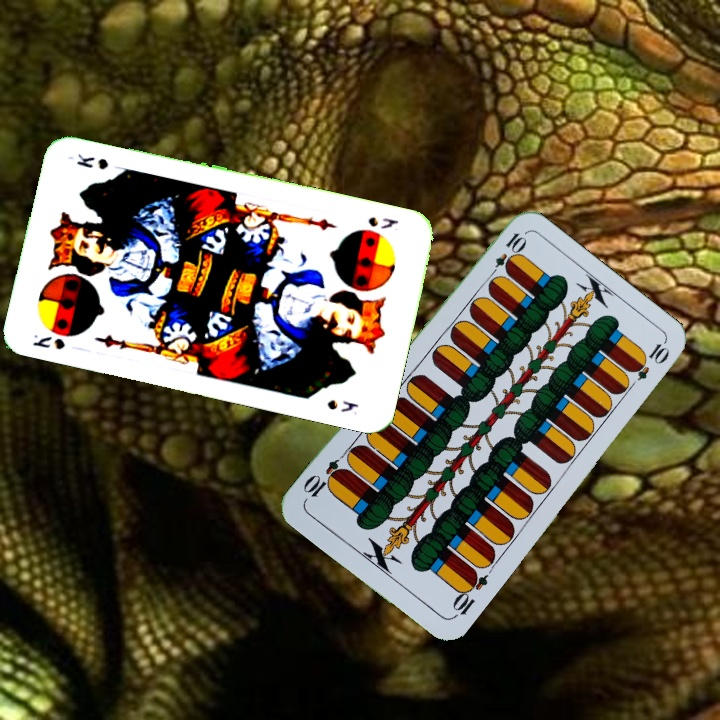E10: (448, 566, 491, 621), (485, 228, 528, 282)
SK: (28, 330, 67, 352), (363, 212, 402, 232)
